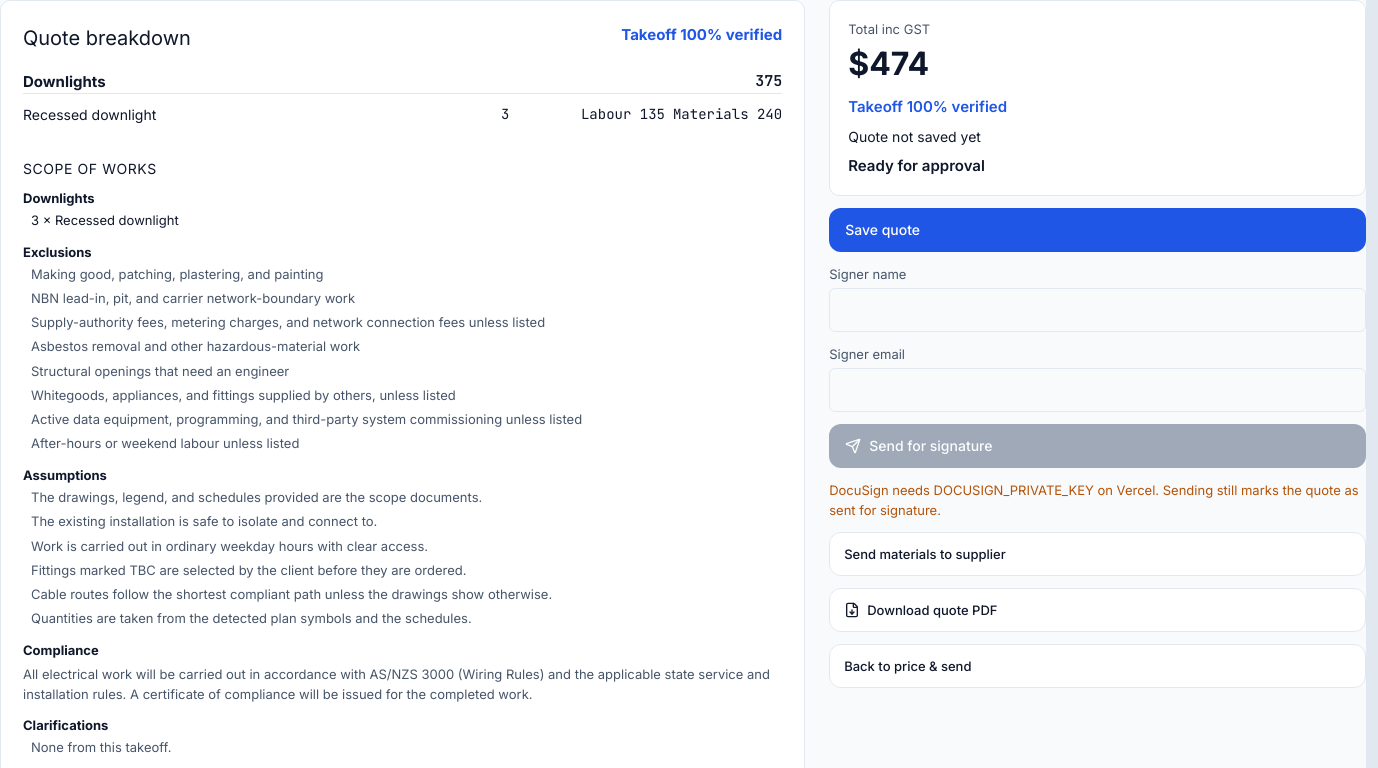
Scenario: Sign and order › shows the breakdown and saves the quote without leaving the step
The image size is (1378, 768).
Expected: the text "Recessed downlight" is shown, [23,106,156,123]
Expected: the text "Takeoff 100% verified" in the row of "Quote breakdown" is shown, [621,25,782,44]
Click the button "Save quote".
click(883, 230)  # box [829,208,1366,252]
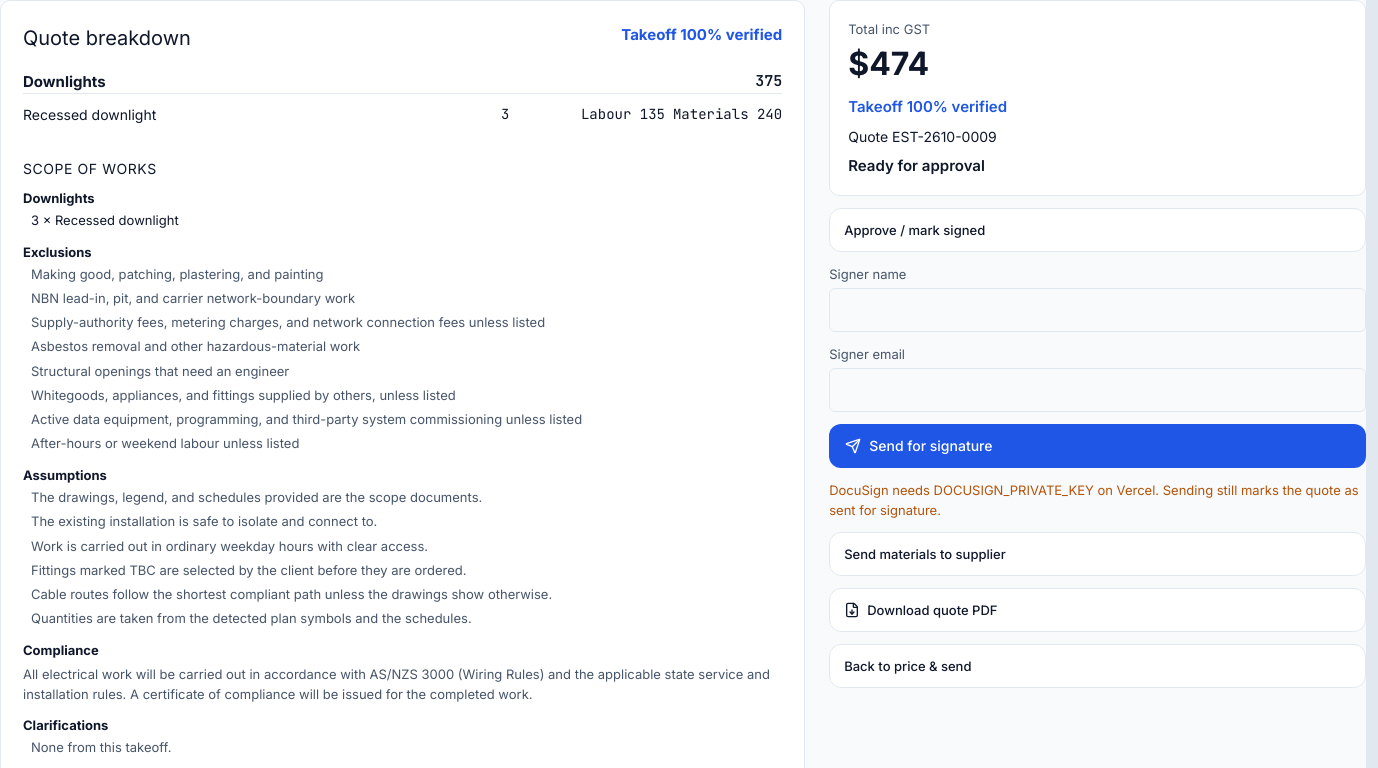
Result: the text "Quote EST-2610-0009" is shown at [848,128,997,145]
